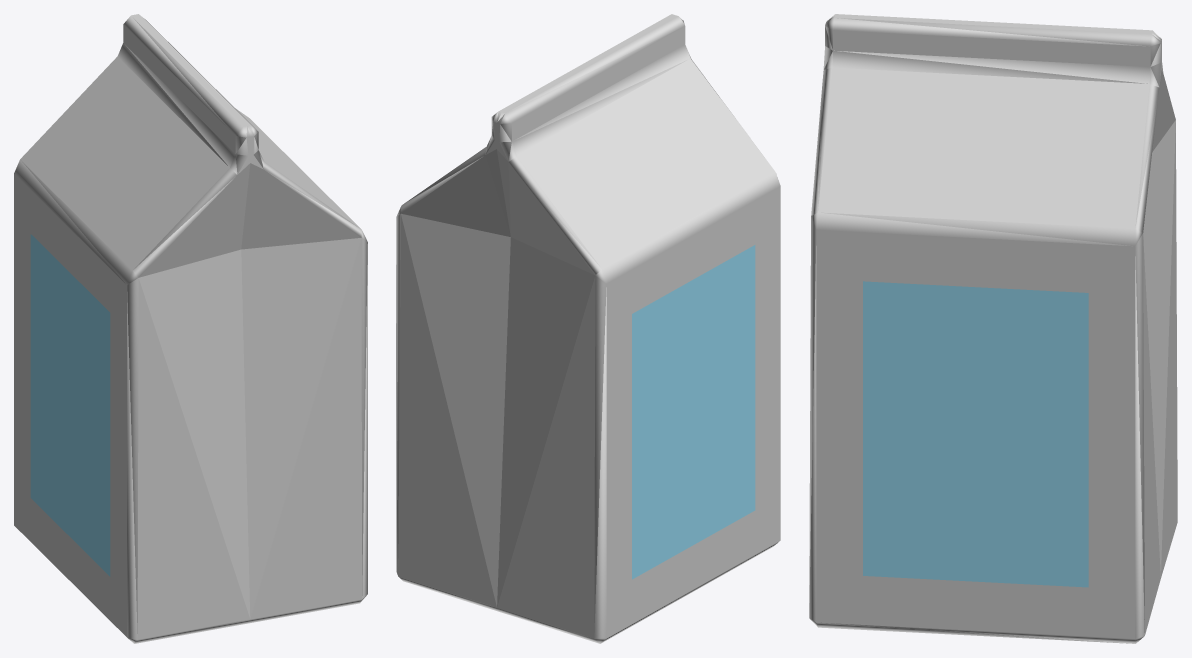
Rendered from susu2.obj.
The picture shows the model from 3 angles, left to right: view 1: azimuth 30°, elevation 25°; view 2: azimuth 150°, elevation 25°; view 3: azimuth 270°, elevation 25°; orthographic projection. The views are drawn at different scales.
Parts seen in each view (by area): view 1: Milk_cartoon_Cube.081; view 2: Milk_cartoon_Cube.081; view 3: Milk_cartoon_Cube.081.
Part boxes in pixels (x1=…): Milk_cartoon_Cube.081: x1=14, y1=14, x2=367, y2=643; Milk_cartoon_Cube.081: x1=396, y1=14, x2=780, y2=643; Milk_cartoon_Cube.081: x1=809, y1=14, x2=1177, y2=643.
Bounding box in the file's own units: 0.3015 × 0.5615 × 0.3383.
